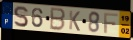6: (32, 8, 45, 29)
8: (88, 11, 101, 34)
B: (49, 7, 67, 32)
F: (103, 13, 119, 35)
K: (68, 10, 81, 33)
S: (13, 5, 29, 28)
